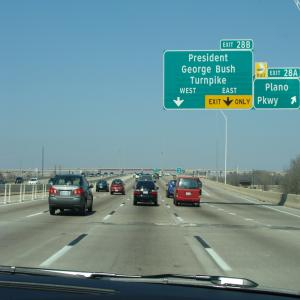Vehicle-registration-plate: (62, 190, 70, 196), (145, 191, 149, 195)
